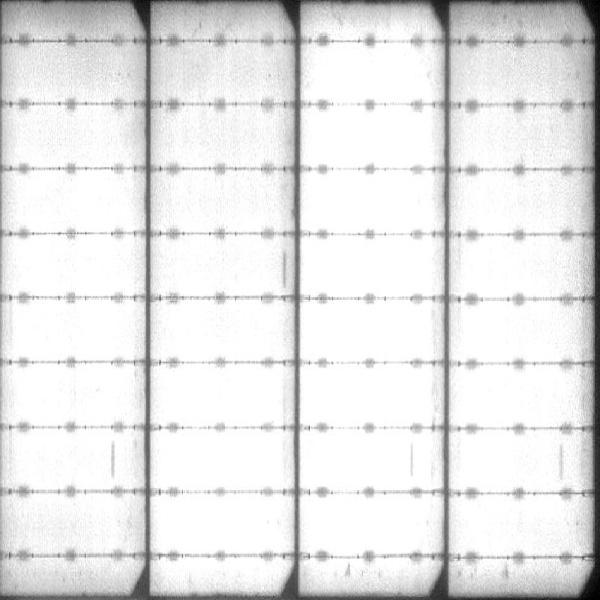hot_spot: (307, 369, 433, 423), (307, 242, 432, 296), (156, 372, 283, 423), (454, 372, 578, 424), (305, 305, 435, 354), (156, 437, 287, 485), (163, 501, 286, 551), (311, 175, 430, 226), (307, 113, 429, 162), (163, 242, 282, 292), (18, 368, 137, 418), (17, 303, 133, 354), (168, 306, 285, 356), (309, 504, 437, 549), (318, 50, 430, 99), (22, 180, 133, 229), (307, 433, 409, 485), (16, 245, 132, 289), (467, 308, 576, 353), (465, 501, 571, 547), (459, 439, 552, 487), (20, 437, 106, 485)
